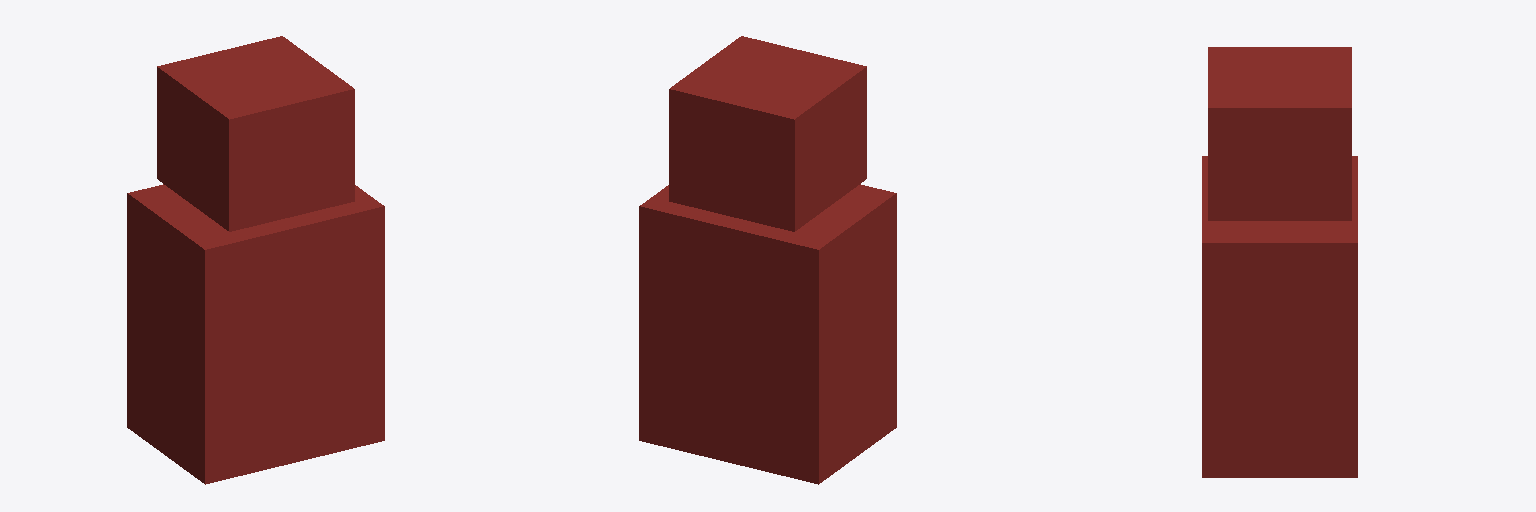
File: character-warrior.obj
The picture shows the model from 3 angles: view 1: azimuth 30°, elevation 25°; view 2: azimuth 150°, elevation 25°; view 3: azimuth 270°, elevation 25°; orthographic projection.
Visible parts, largest first — view 1: Warrior; view 2: Warrior; view 3: Warrior.
Part boxes in pixels (x1,y1,x2,y2): Warrior: (127,36,384,484); Warrior: (639,36,896,484); Warrior: (1202,47,1357,477).
Size of the model in its own units: 0.4 by 0.76 by 0.3.